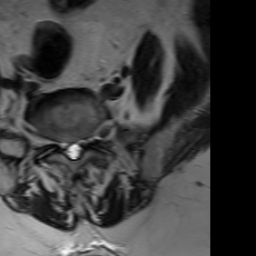CCS_stenosis: (68, 134, 76, 165)
LFS_stenosis: (84, 123, 92, 152)
LLS_stenosis: (76, 135, 84, 163)
RFS_severe_stenosis: (52, 130, 61, 154)
RLS_normal: (61, 135, 68, 163)
